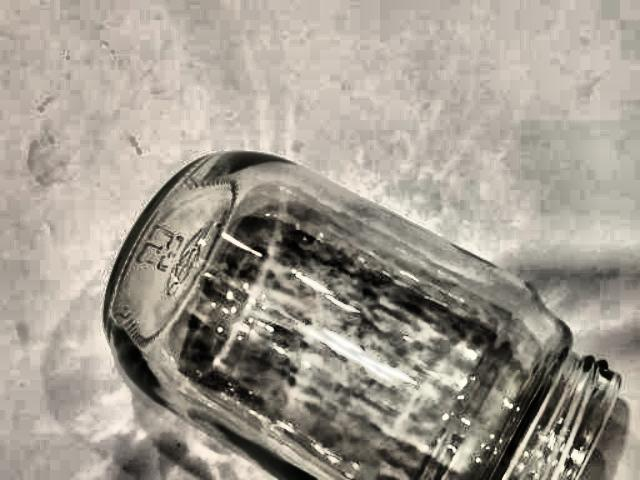Almennt: (89, 136, 640, 480)
